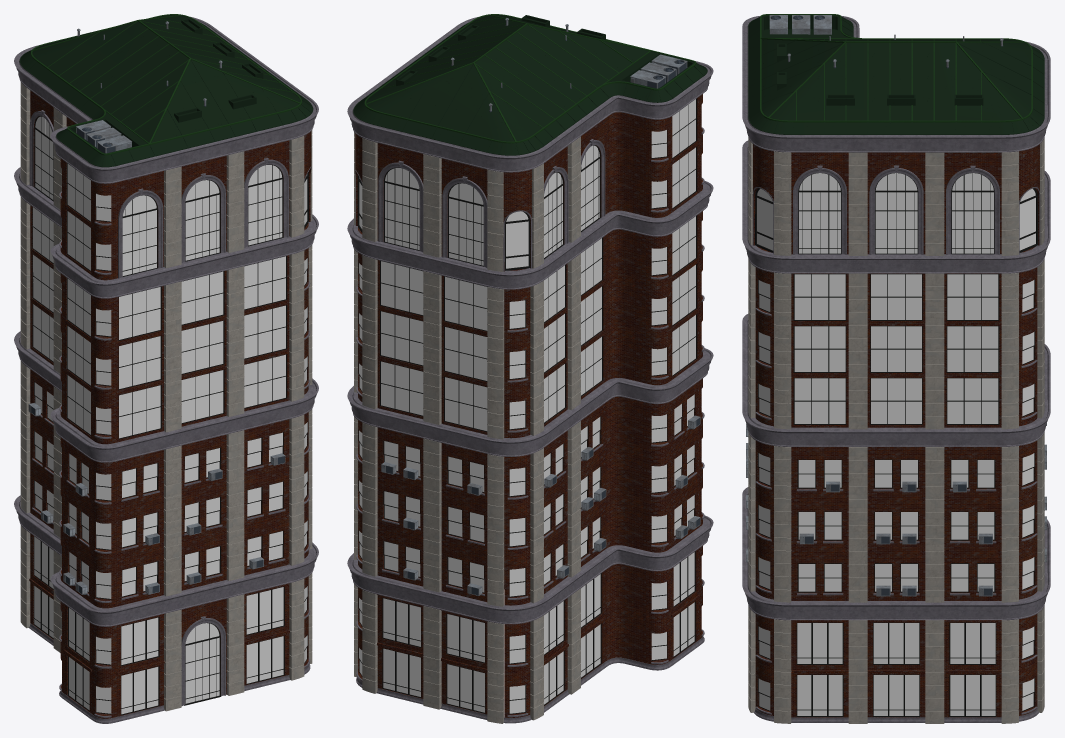
The model's file is Building_08.fbx.
3 views of the same model, side by side, from view 1: azimuth 30°, elevation 25°; view 2: azimuth 150°, elevation 25°; view 3: azimuth 270°, elevation 25° (orthographic). The views are drawn at different scales.
Visible parts, largest first — view 1: Building_08_LOD0; view 2: Building_08_LOD0; view 3: Building_08_LOD0.
Part boxes in pixels (x1,y1,x2,y2): Building_08_LOD0: (14,14,318,723); Building_08_LOD0: (347,14,713,723); Building_08_LOD0: (742,14,1050,723).
Size of what is drawn, in the model's own units: 1845 by 4486 by 1967.
